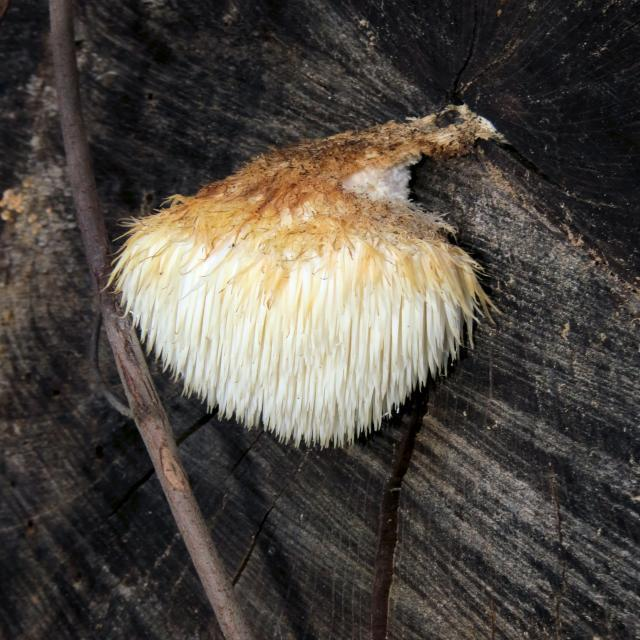Hericium erinaceus: (120, 107, 523, 446)
